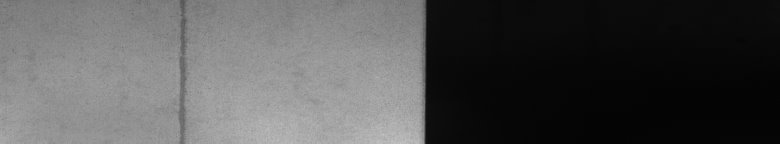hd: (173, 4, 192, 136)
